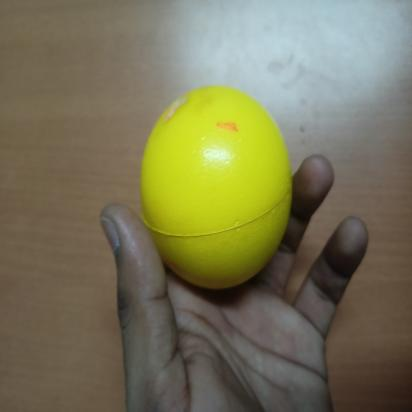Yellowball: (135, 78, 297, 295)
